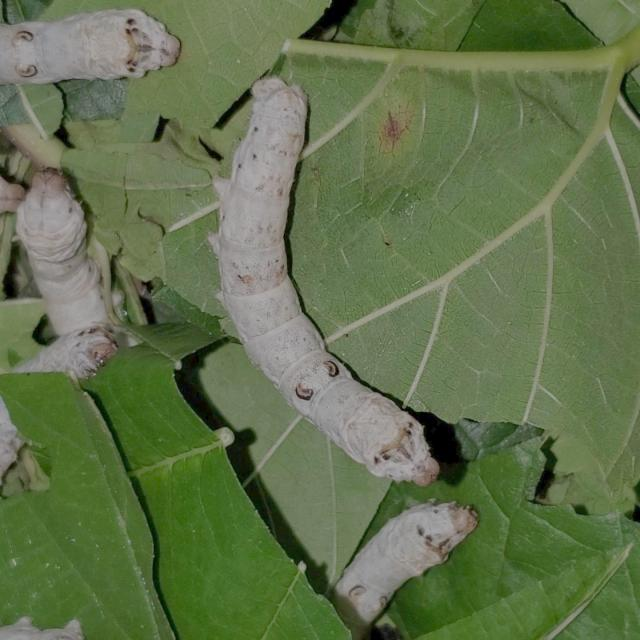Healthy: (195, 62, 464, 496)
